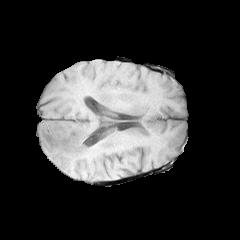glioma: (42, 122, 95, 168)
